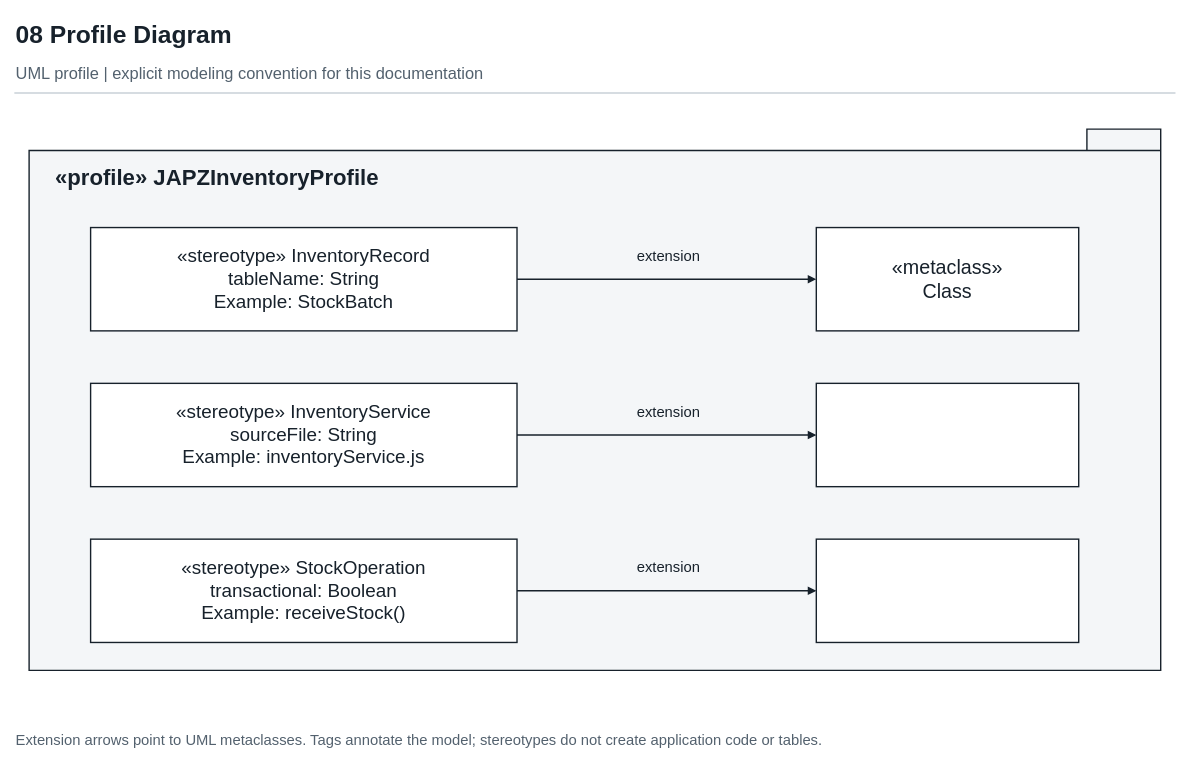
This 1191x775 diagram has some shape labels left out. The box of each missing label's shape, as (x1, y1, x2, y2) in pixels:
«metaclass» Component: (815, 382, 1079, 487)
«metaclass» Operation: (815, 538, 1079, 643)
